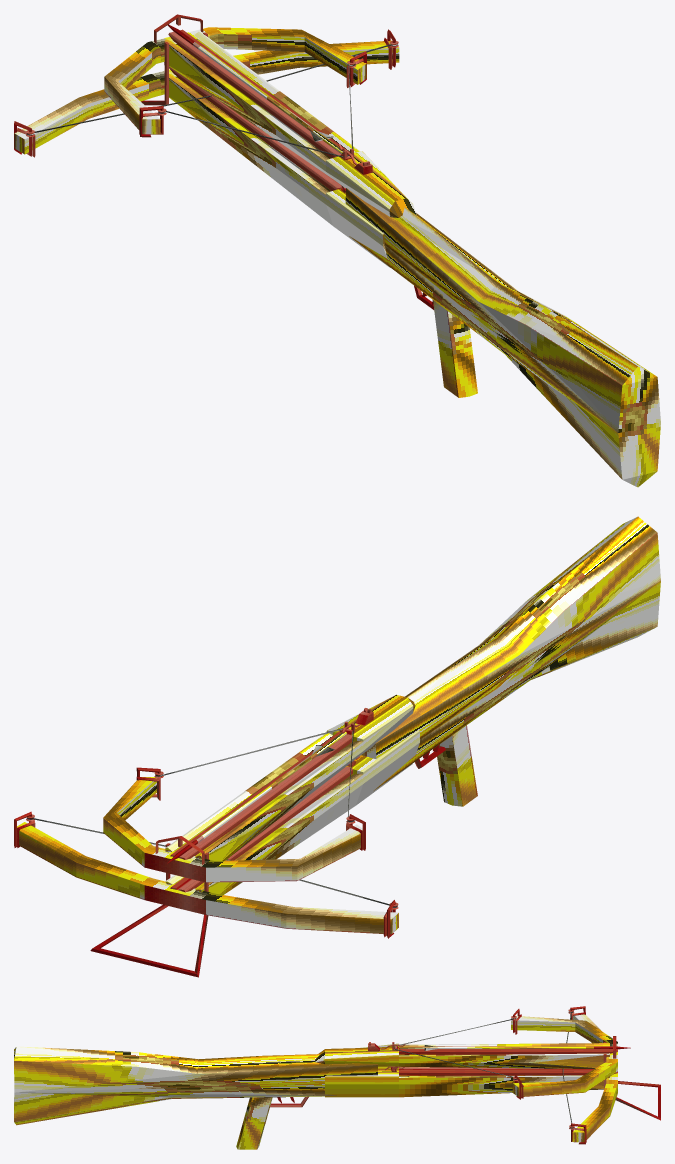
The model's file is double_crossbow_stretching_lower_1.obj.
3 views of the same model, one above another, from view 1: azimuth 30°, elevation 25°; view 2: azimuth 150°, elevation 25°; view 3: azimuth 270°, elevation 25° (orthographic). The views are drawn at different scales.
Visible parts, largest first — view 1: Torus.009_Torus.008, Torus.000, Torus.001_Torus.007, Torus.002_Torus.009; view 2: Torus.009_Torus.008, Torus.000, Torus.001_Torus.007, Torus.002_Torus.009; view 3: Torus.009_Torus.008, Torus.000, Torus.001_Torus.007, Torus.002_Torus.009.
Part boxes in pixels (<box>): Torus.009_Torus.008: <box>338,144,660,487</box>; Torus.000: <box>141,14,416,267</box>; Torus.001_Torus.007: <box>14,27,399,157</box>; Torus.002_Torus.009: <box>167,24,343,154</box>; Torus.009_Torus.008: <box>339,516,660,806</box>; Torus.000: <box>90,694,419,977</box>; Torus.001_Torus.007: <box>14,728,398,938</box>; Torus.002_Torus.009: <box>167,731,346,863</box>; Torus.009_Torus.008: <box>14,1042,405,1149</box>; Torus.000: <box>315,1036,660,1120</box>; Torus.001_Torus.007: <box>394,1006,617,1144</box>; Torus.002_Torus.009: <box>399,1045,630,1050</box>.
Bounding box in the file's own units: 3.41 × 1.45 × 7.77.
